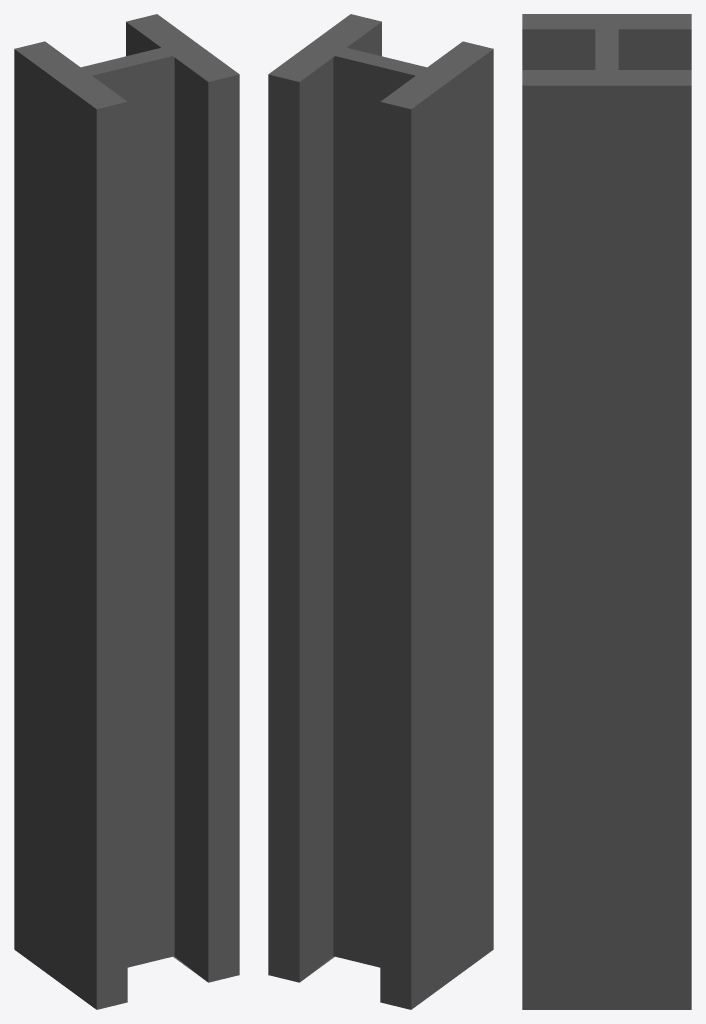
Rendered from beam.fbx.
3 views of the same model, side by side, from view 1: azimuth 30°, elevation 25°; view 2: azimuth 150°, elevation 25°; view 3: azimuth 270°, elevation 25° (orthographic). The views are drawn at different scales.
Parts seen in each view (by area): view 1: beam; view 2: beam; view 3: beam.
Part boxes in pixels (left/top/right/bottom): beam: left=14, top=14, right=239, bottom=1009; beam: left=268, top=14, right=493, bottom=1009; beam: left=522, top=14, right=691, bottom=1009.
Bounding box in the file's own units: 3.04 × 3.04 × 18.3.
